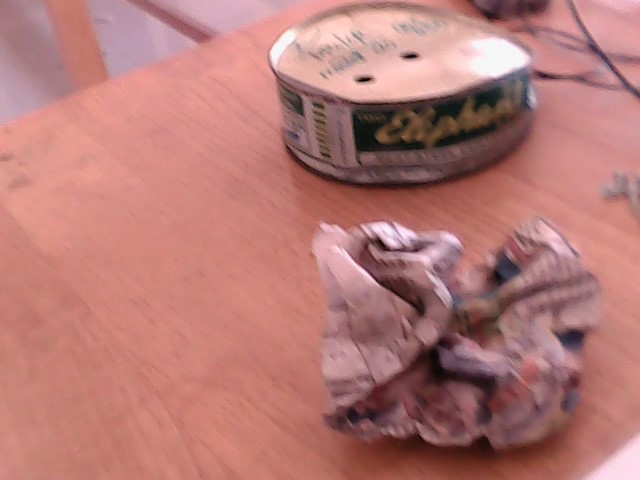Metal: (242, 22, 563, 184)
paper: (295, 227, 622, 480)
